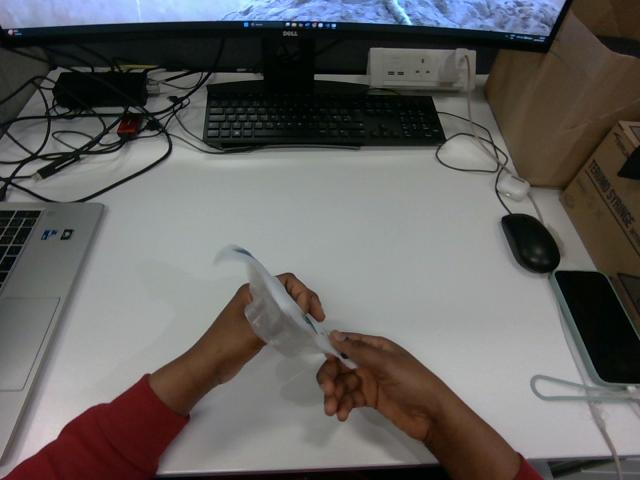gallipot: (214, 245, 355, 367)
